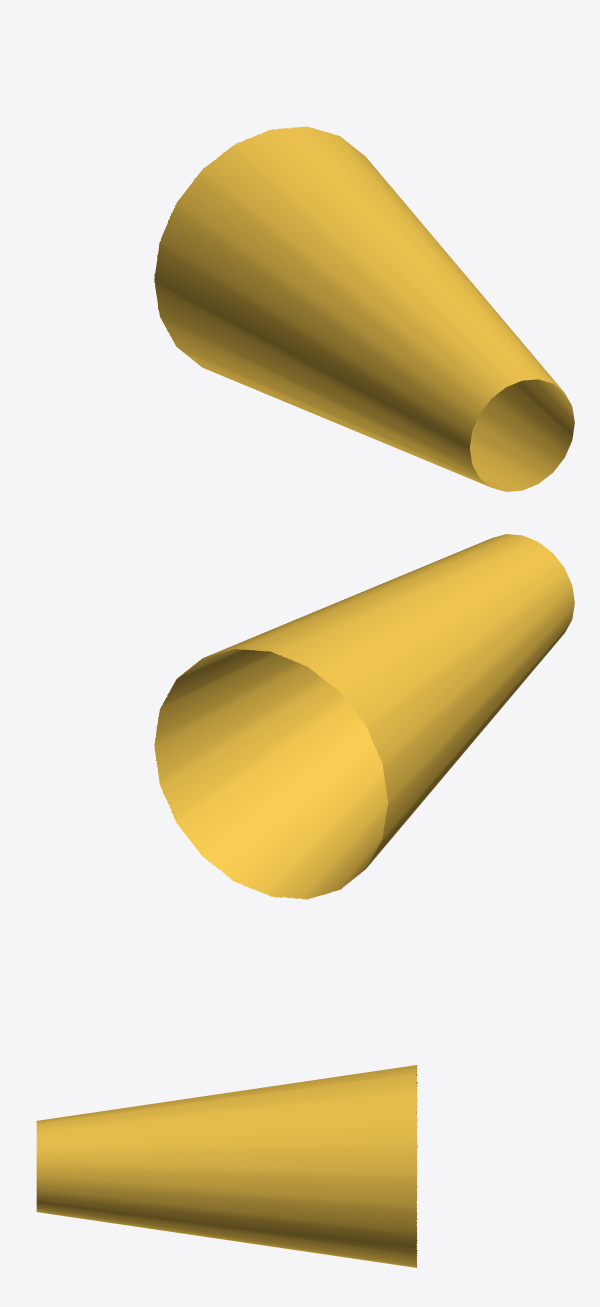
File: light.fbx
3 renders of one model, top to bottom at view 1: azimuth 30°, elevation 25°; view 2: azimuth 150°, elevation 25°; view 3: azimuth 270°, elevation 25°, orthographic. The views are drawn at different scales.
Visible parts, largest first — view 1: light; view 2: light; view 3: light.
Part boxes in pixels (x1,y1,x2,y2): light: (154, 126, 574, 491); light: (154, 534, 574, 899); light: (36, 1065, 417, 1267).
Bounding box in the file's own units: 360 × 360 × 809.
